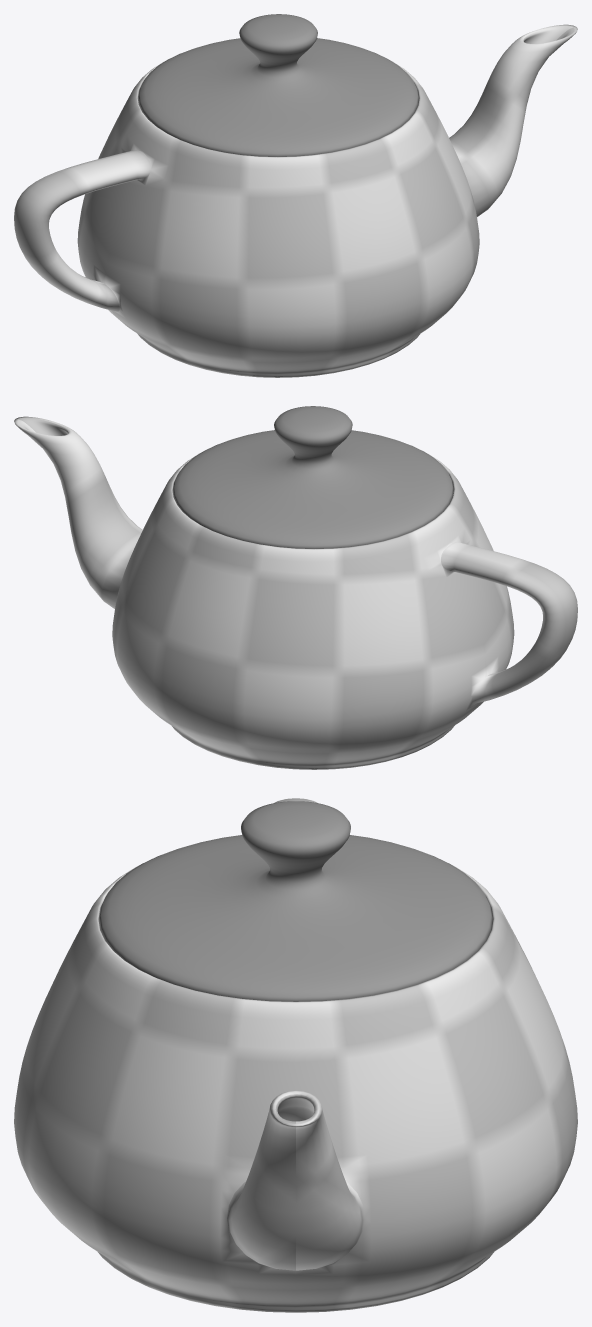
The model's file is teapot.obj.
The picture shows the model from 3 angles, top to bottom: view 1: azimuth 30°, elevation 25°; view 2: azimuth 150°, elevation 25°; view 3: azimuth 270°, elevation 25°; orthographic projection. The views are drawn at different scales.
Parts seen in each view (by area): view 1: Base, Top; view 2: Base, Top; view 3: Base, Top.
Part boxes in pixels (x1,y1,x2,y2): Base: [14, 24, 577, 377]; Top: [138, 14, 419, 156]; Base: [14, 416, 577, 769]; Top: [172, 406, 453, 548]; Base: [14, 798, 577, 1312]; Top: [98, 801, 493, 1001].
Size of the model in its own units: 3.58 by 1.83 by 2.22.
Materials: 2 (1 with a texture image).
